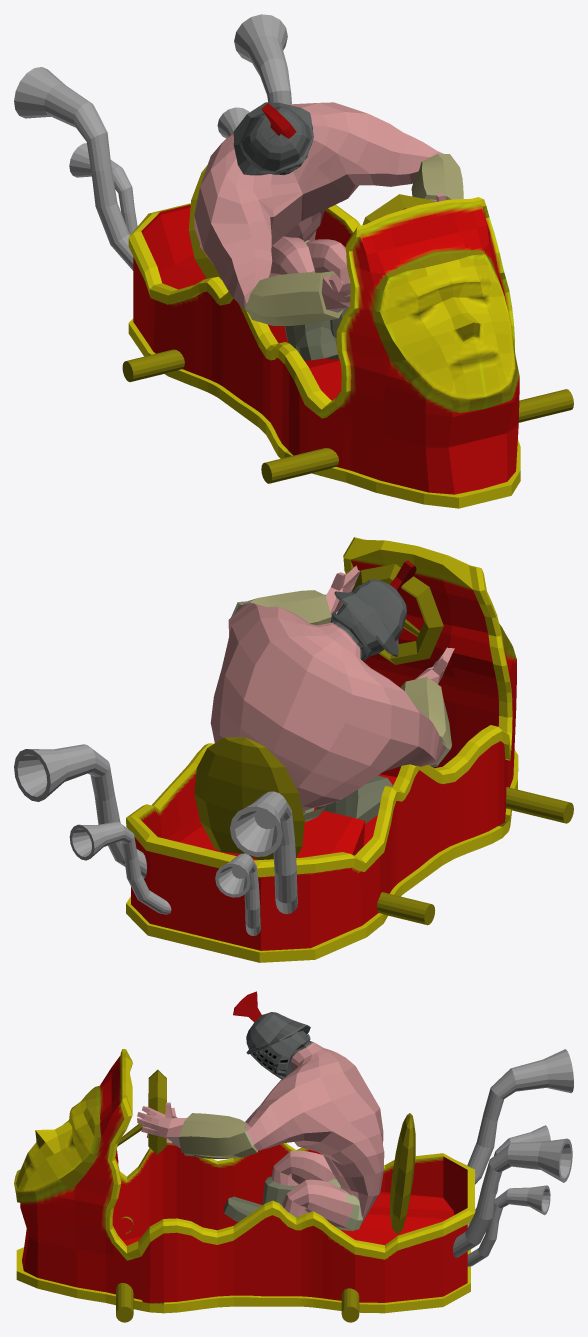
The model's file is GladiGiroDer_000546.obj.
3 views of the same model, one above another, from view 1: azimuth 30°, elevation 25°; view 2: azimuth 150°, elevation 25°; view 3: azimuth 270°, elevation 25° (orthographic). The views are drawn at different scales.
Parts seen in each view (by area): view 1: GladiChasis_GladiChasisH, Gadiador_Gladiador_H, GladiTubos_GladiTubosH, GladiVolante_GladiVolanteH; view 2: GladiChasis_GladiChasisH, Gadiador_Gladiador_H, GladiTubos_GladiTubosH, GladiVolante_GladiVolanteH; view 3: GladiChasis_GladiChasisH, Gadiador_Gladiador_H, GladiTubos_GladiTubosH, GladiVolante_GladiVolanteH.
Boxes of the visible parts, x1=… form: GladiChasis_GladiChasisH: x1=128, y1=197, x2=520, y2=508; Gadiador_Gladiador_H: x1=194, y1=102, x2=463, y2=360; GladiTubos_GladiTubosH: x1=14, y1=14, x2=291, y2=270; GladiVolante_GladiVolanteH: x1=122, y1=165, x2=573, y2=483; GladiChasis_GladiChasisH: x1=126, y1=537, x2=518, y2=962; Gadiador_Gladiador_H: x1=210, y1=560, x2=454, y2=823; GladiTubos_GladiTubosH: x1=14, y1=744, x2=297, y2=935; GladiVolante_GladiVolanteH: x1=194, y1=564, x2=573, y2=925; GladiChasis_GladiChasisH: x1=14, y1=1049, x2=474, y2=1313; Gadiador_Gladiador_H: x1=137, y1=991, x2=384, y2=1231; GladiTubos_GladiTubosH: x1=453, y1=1049, x2=573, y2=1266; GladiVolante_GladiVolanteH: x1=116, y1=1069, x2=415, y2=1322.
Bounding box in the file's own units: 5.46 × 5.32 × 10.78.
Materials: 4 (4 with a texture image).
